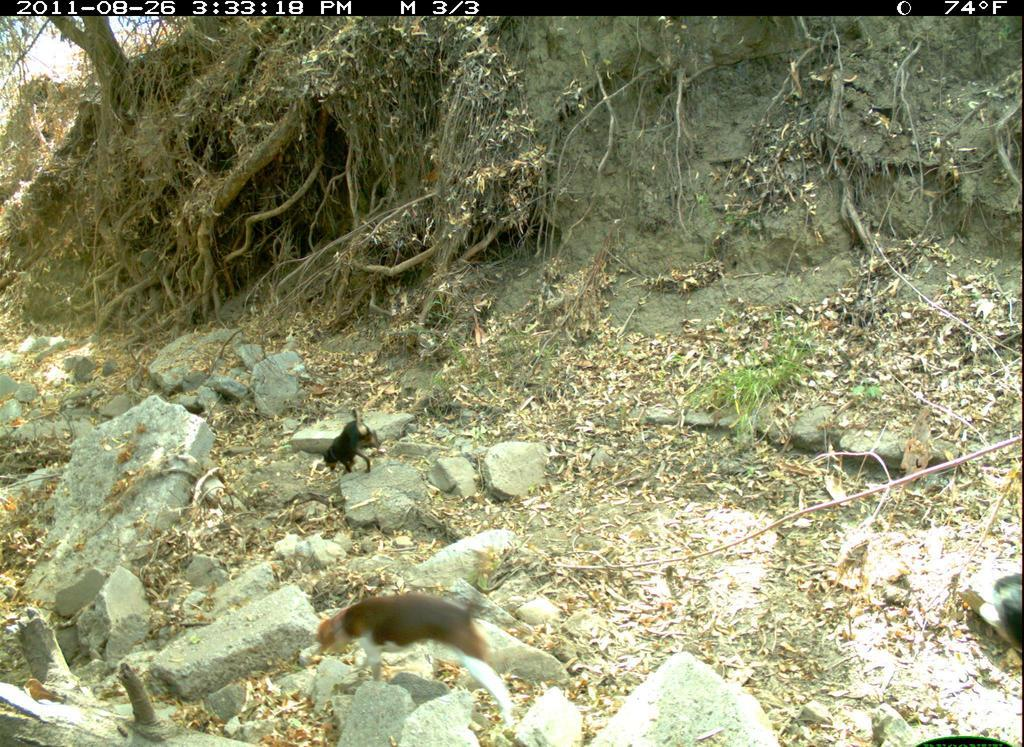dog: (308, 574, 529, 733), (317, 404, 390, 482)
